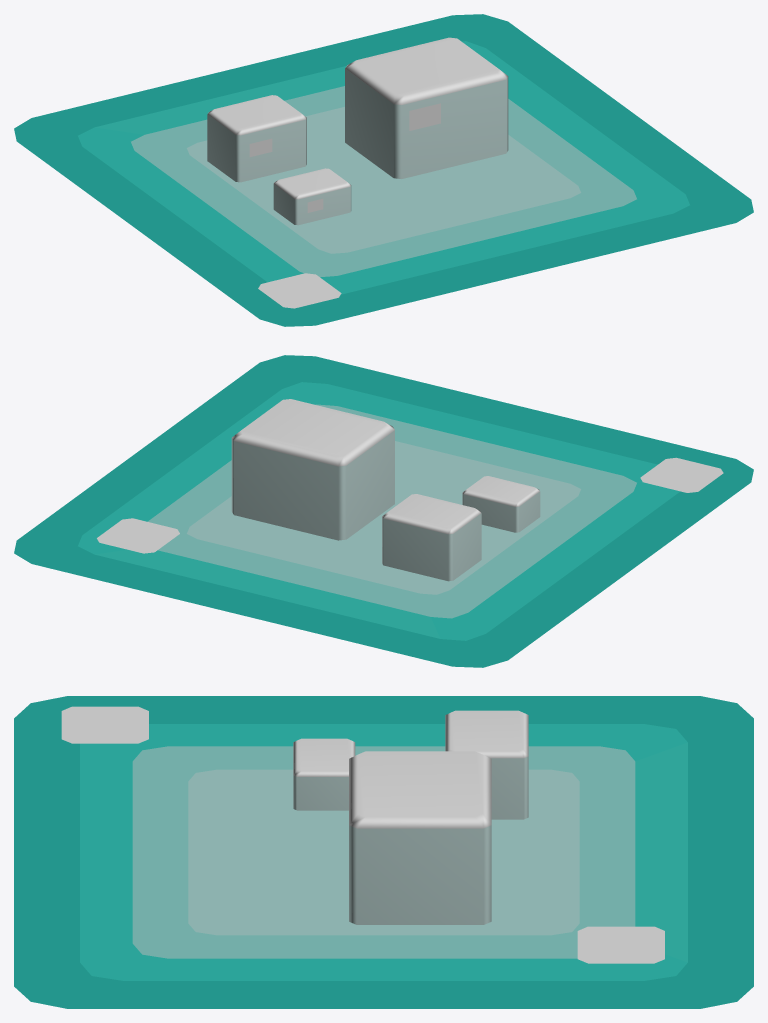
Rendered from BC_cookrecipe_22.fbx.
3 views of the same model, one above another, from view 1: azimuth 30°, elevation 25°; view 2: azimuth 150°, elevation 25°; view 3: azimuth 270°, elevation 25° (orthographic). The views are drawn at different scales.
Visible parts, largest first — view 1: base, cube1, cube2, cube3, base2; view 2: base, cube1, cube2, cube3, base1, base2; view 3: base, cube1, cube2, cube3, base1, base2.
Part boxes in pixels (bbox=[...]): base: bbox=[14, 14, 753, 326]; cube1: bbox=[345, 37, 508, 178]; cube2: bbox=[207, 95, 306, 182]; cube3: bbox=[273, 168, 351, 225]; base2: bbox=[258, 273, 341, 308]; base: bbox=[14, 355, 753, 667]; cube1: bbox=[231, 399, 394, 540]; cube2: bbox=[382, 494, 481, 581]; cube3: bbox=[462, 476, 540, 532]; base1: bbox=[97, 518, 179, 553]; base2: bbox=[640, 457, 723, 492]; base: bbox=[14, 696, 753, 1008]; cube1: bbox=[349, 751, 491, 924]; cube2: bbox=[445, 710, 528, 819]; cube3: bbox=[293, 738, 355, 810]; base1: bbox=[577, 926, 664, 963]; base2: bbox=[61, 706, 148, 743].
Size of the model in its own units: 3.5 by 0.817 by 3.5.
